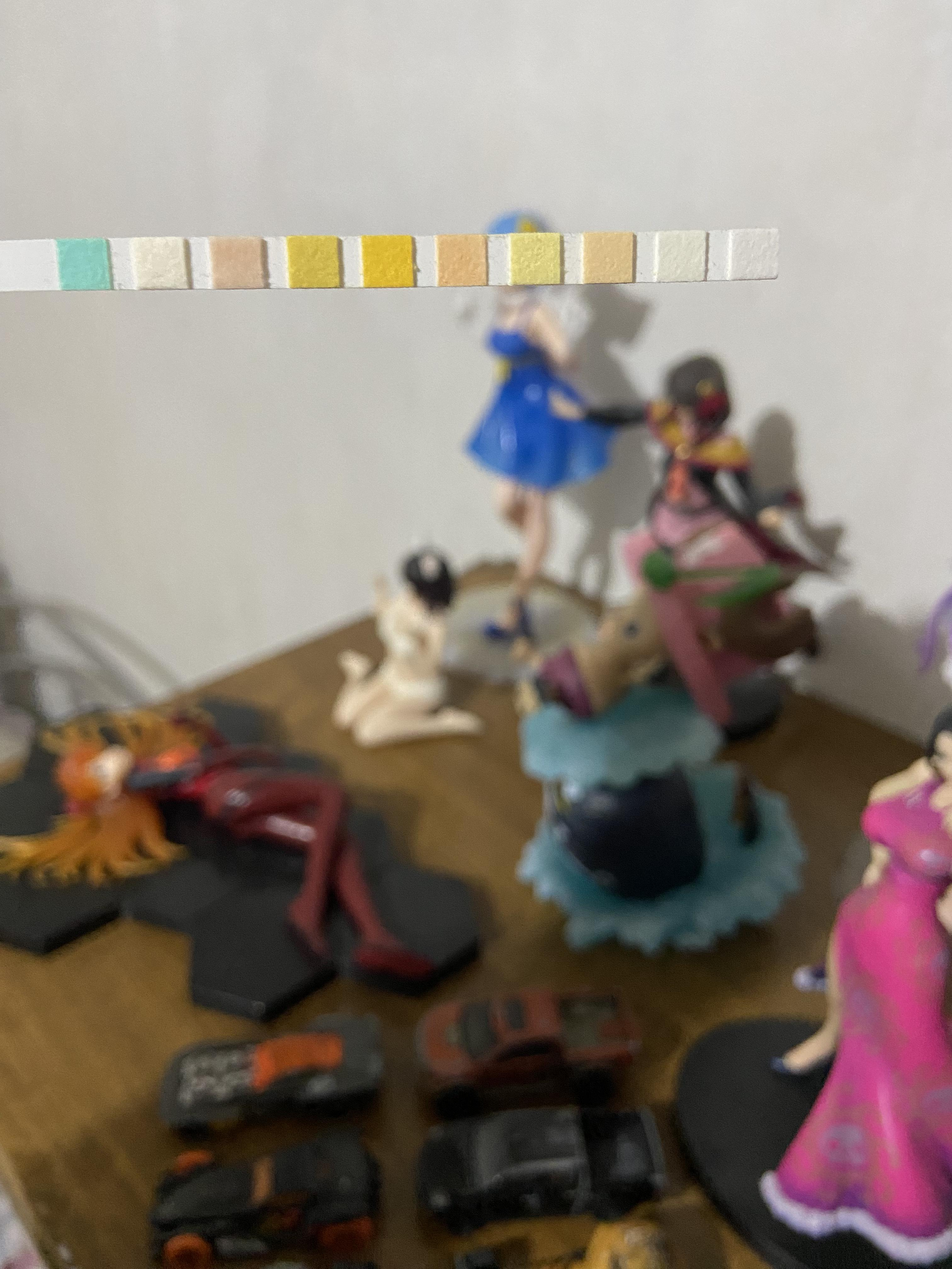Bilirubin: (138, 240, 184, 287)
Blood: (365, 238, 411, 284)
Glucose: (61, 242, 105, 286)
Ketone: (216, 238, 260, 287)
Leukocytes: (733, 233, 774, 277)
Nitrite: (660, 235, 703, 279)
Protein: (513, 236, 558, 281)
SpGravity: (290, 239, 337, 286)
Urobilinogen: (586, 236, 631, 281)
pH: (439, 238, 485, 284)
strip: (1, 231, 776, 292)
